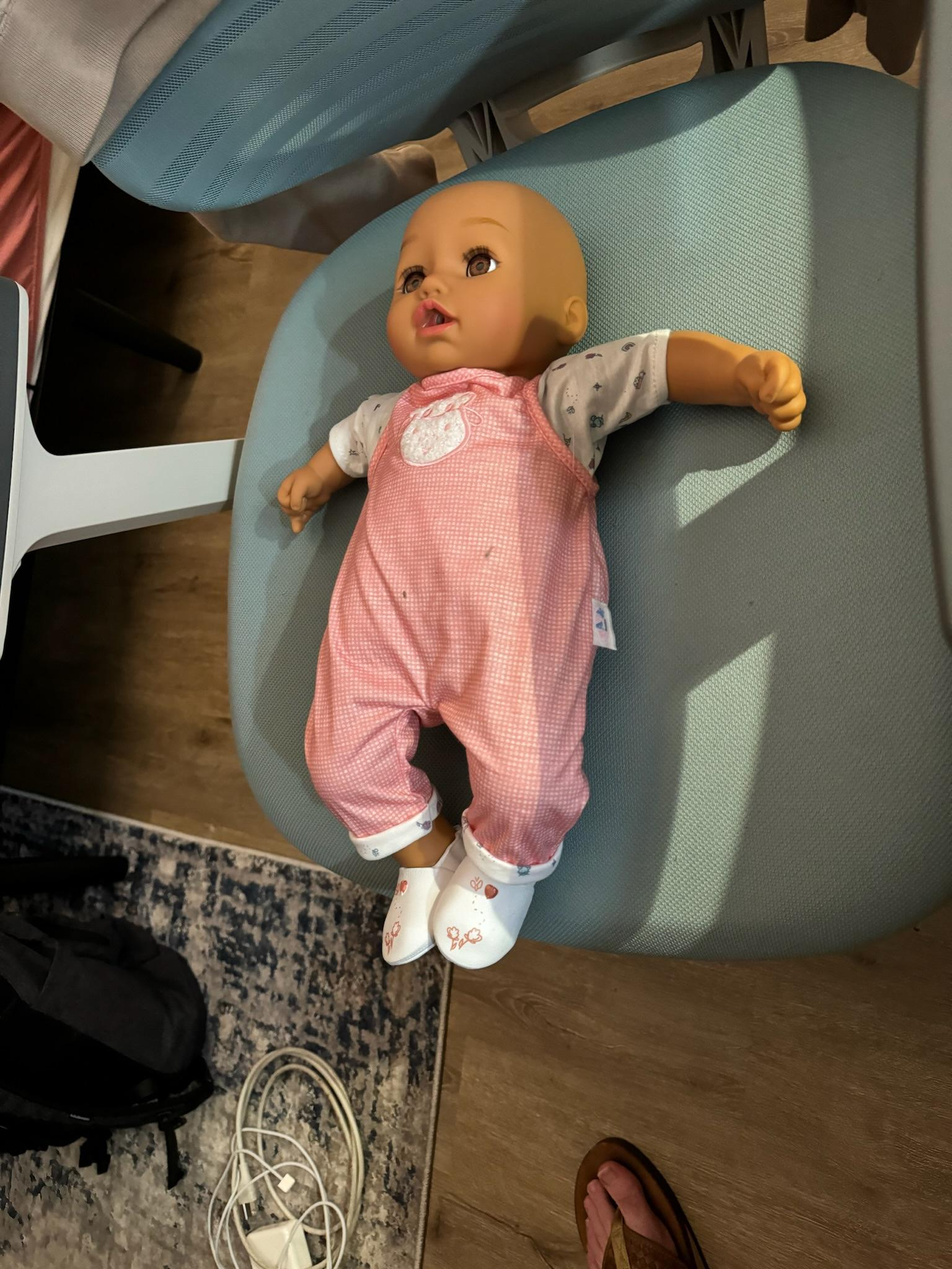baby: (260, 169, 789, 996)
